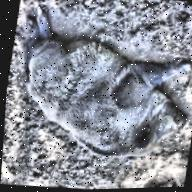boar: (1, 0, 192, 170)
